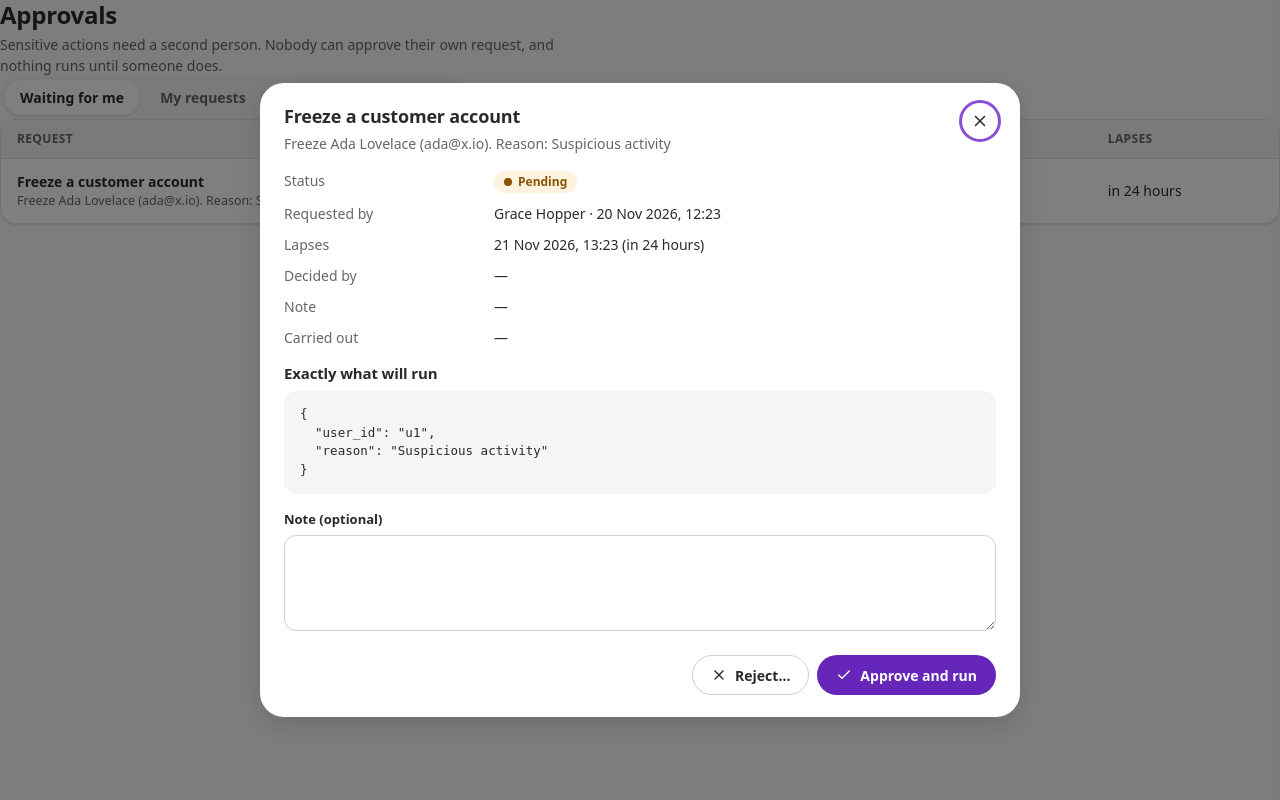
Test: approvals › approving sends the decision to the server
Click the button "Approve and run" at (907, 675), box [817, 655, 996, 695]
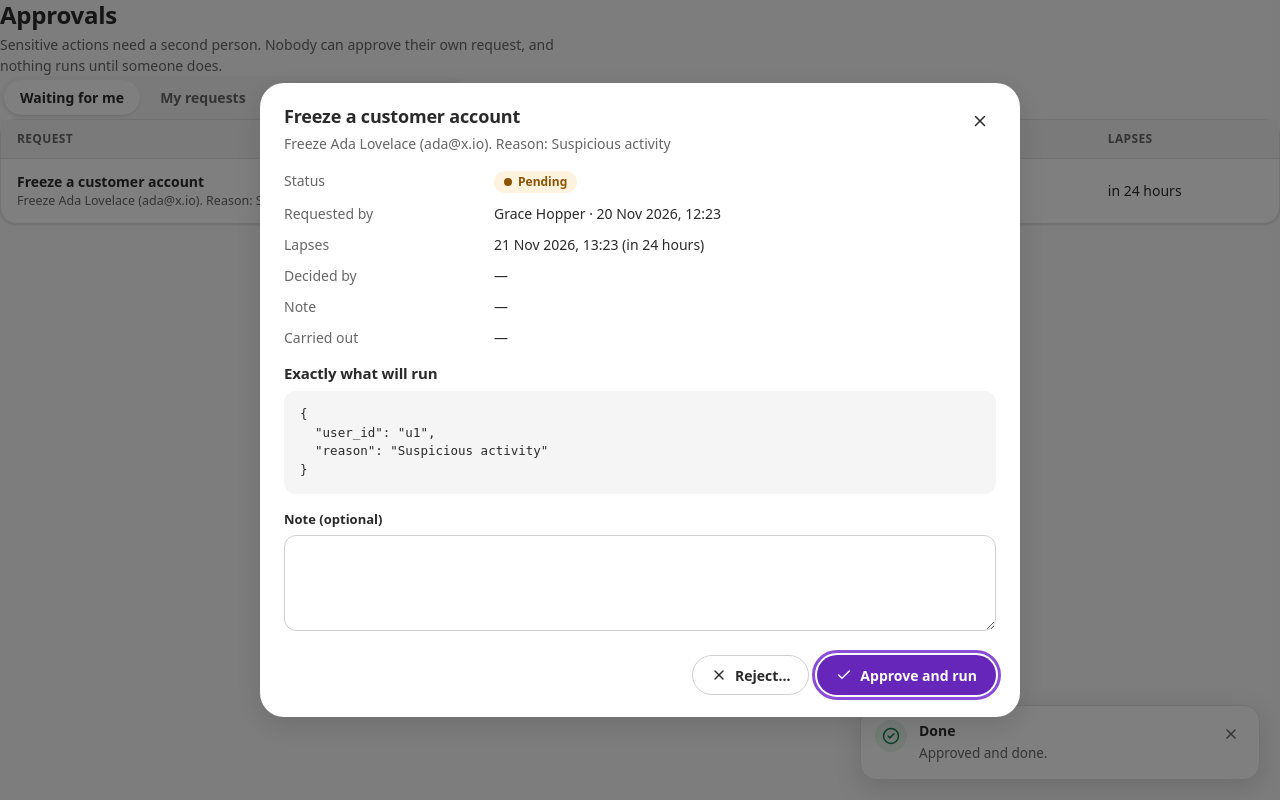
Now the text "Approved and done." is shown, box [919, 744, 1048, 762]
